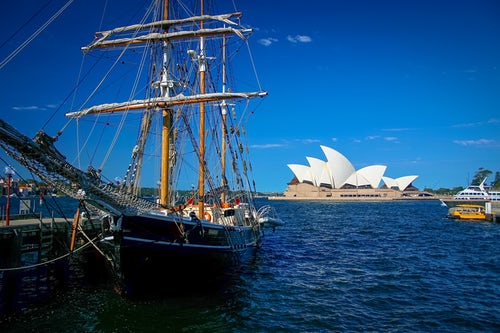opera house: (265, 144, 425, 201)
